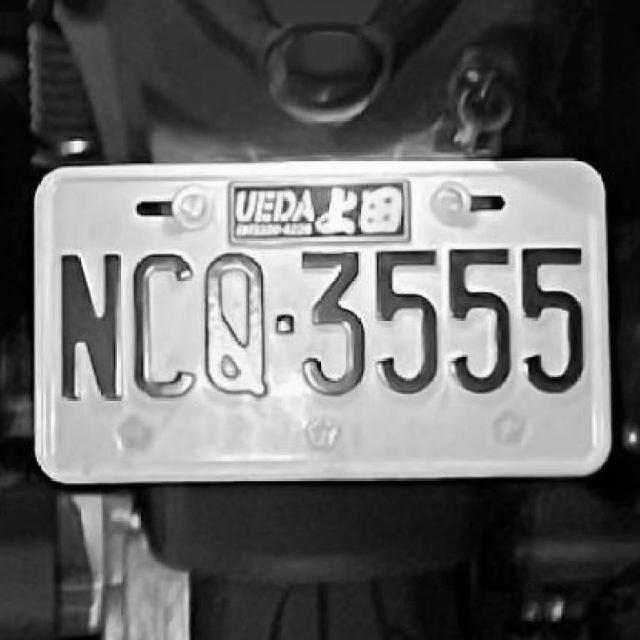-: (276, 312, 292, 336)
3: (295, 247, 368, 396)
5: (516, 235, 590, 400), (445, 240, 520, 394), (371, 244, 446, 396)
C: (129, 245, 200, 403)
N: (52, 248, 125, 404)
Q: (203, 246, 272, 403)
